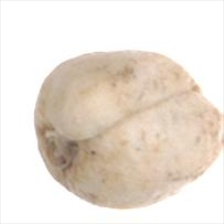L4: (33, 51, 222, 209)
